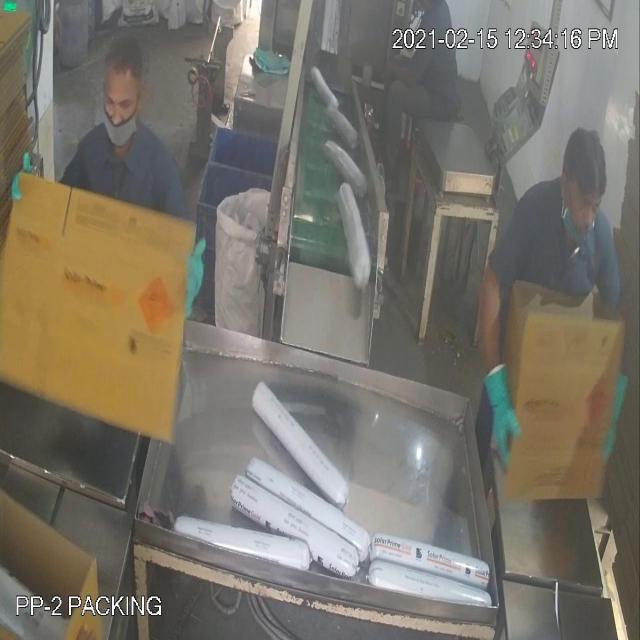Gloves: (47, 46, 500, 416)
